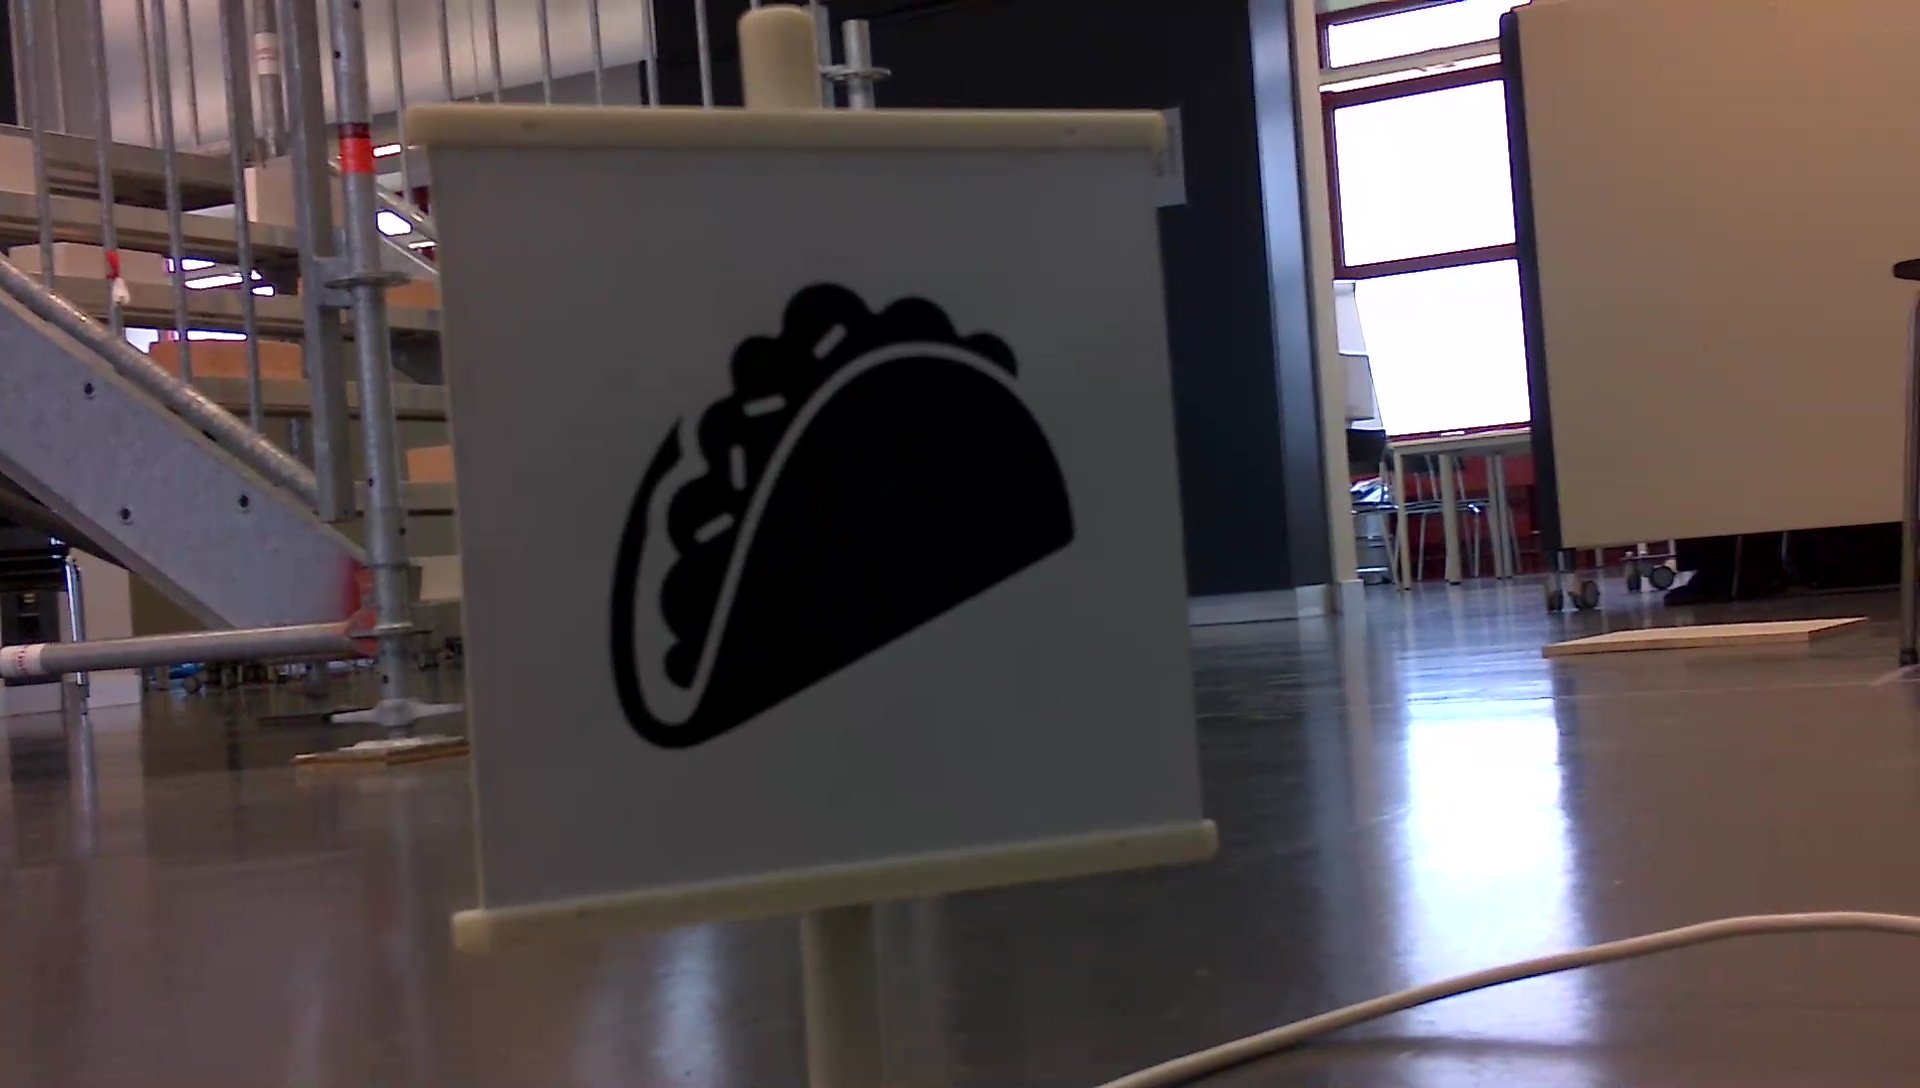brick: (425, 555, 458, 601), (410, 447, 450, 485)
taco: (597, 266, 1091, 758)
